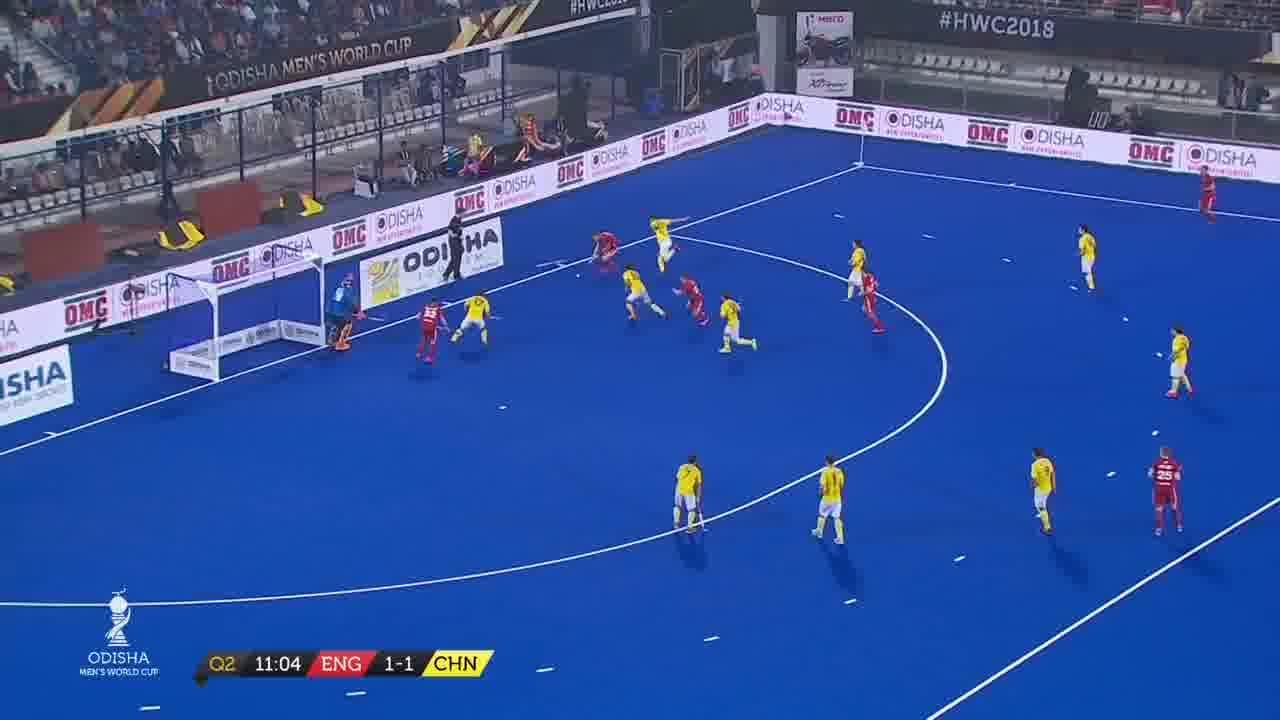ball: (572, 272, 586, 279)
